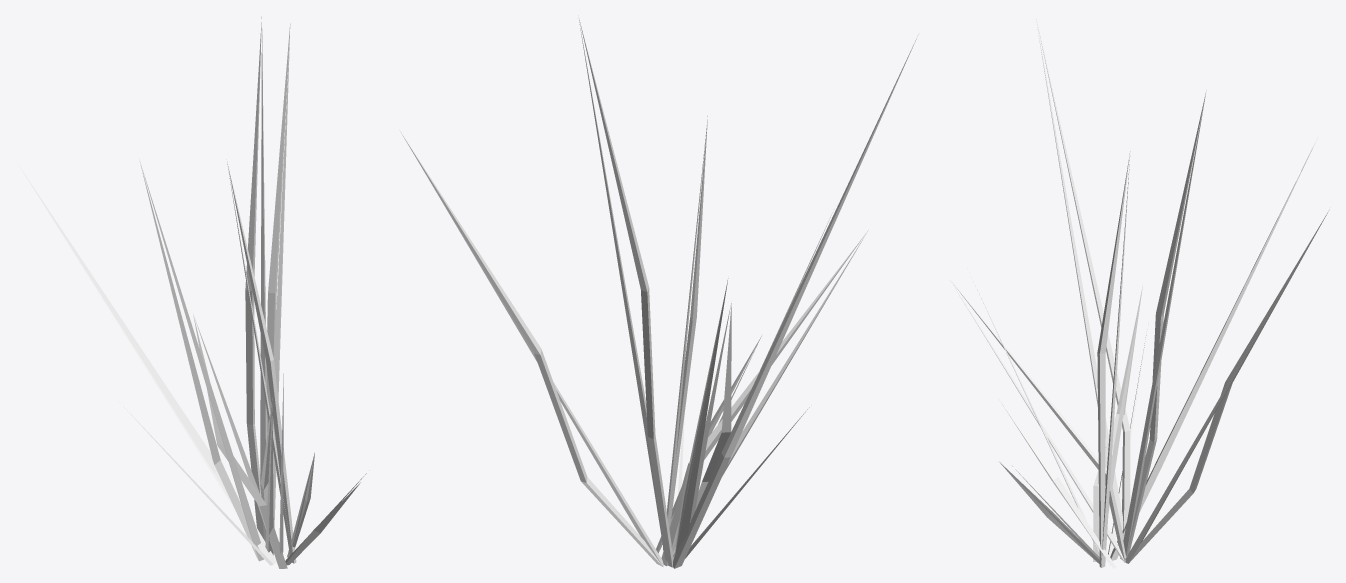
The model's file is Grass_25_Snowy.fbx.
The picture shows the model from 3 angles, left to right: view 1: azimuth 30°, elevation 25°; view 2: azimuth 150°, elevation 25°; view 3: azimuth 270°, elevation 25°; orthographic projection. The views are drawn at different scales.
Visible parts, largest first — view 1: Grass 25_LOD0_Snowy, Grass 25_LOD1_Snowy; view 2: Grass 25_LOD0_Snowy, Grass 25_LOD1_Snowy; view 3: Grass 25_LOD0_Snowy, Grass 25_LOD1_Snowy.
Boxes of the visible parts, x1,y1,x2,y2 form: Grass 25_LOD0_Snowy: (17, 16, 366, 568); Grass 25_LOD1_Snowy: (27, 26, 314, 563); Grass 25_LOD0_Snowy: (401, 19, 917, 568); Grass 25_LOD1_Snowy: (405, 20, 865, 566); Grass 25_LOD0_Snowy: (952, 22, 1327, 568); Grass 25_LOD1_Snowy: (953, 19, 1326, 567).
Size of the model in its own units: 28.42 by 44.93 by 31.87.
